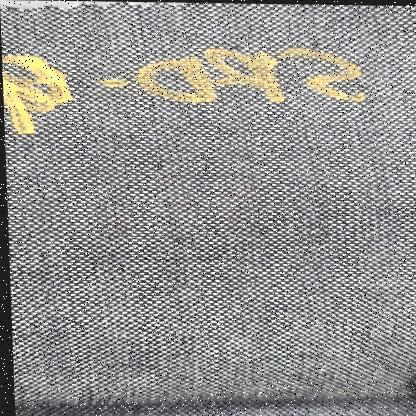spot: (1, 23, 368, 143)
